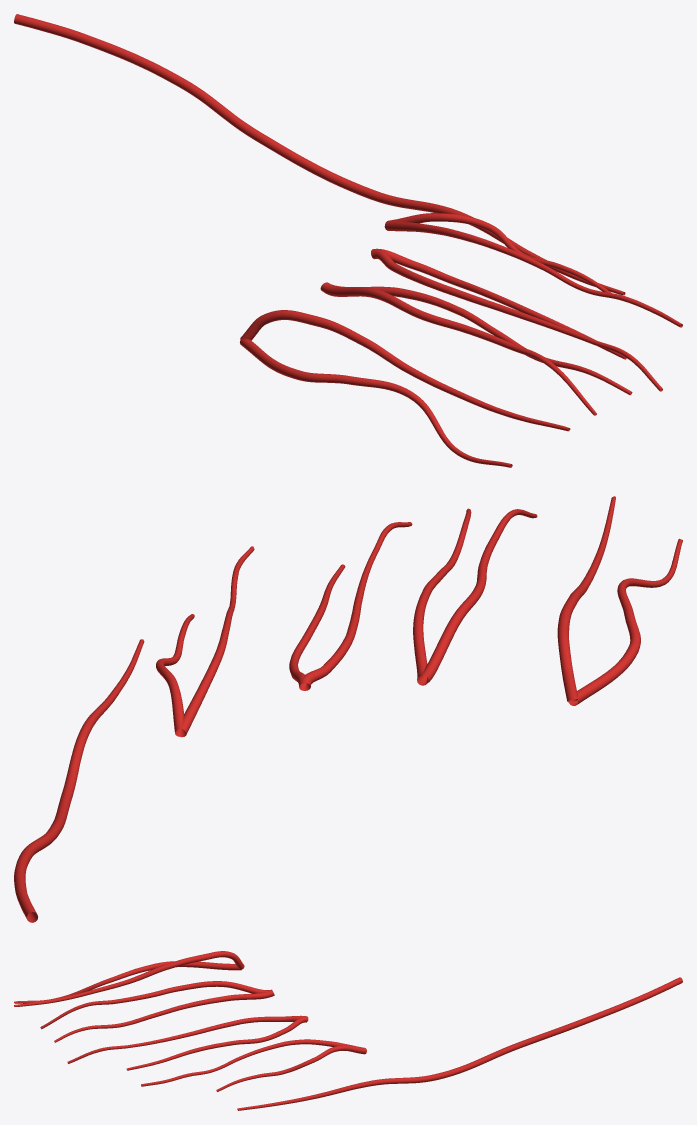
File: circulatorio-proper-plantar-digital-arteries-l.glb
3 renders of one model, top to bottom at view 1: azimuth 30°, elevation 25°; view 2: azimuth 150°, elevation 25°; view 3: azimuth 270°, elevation 25°, orthographic. The views are drawn at different scales.
Visible parts, largest first — view 1: Proper plantar digital arteries.l; view 2: Proper plantar digital arteries.l; view 3: Proper plantar digital arteries.l.
Part boxes in pixels (<box>): Proper plantar digital arteries.l: <box>14,14,682,467</box>; Proper plantar digital arteries.l: <box>14,496,682,922</box>; Proper plantar digital arteries.l: <box>14,951,682,1110</box>.
Bounding box in the file's own units: 0.0603 × 0.0131 × 0.1436.
